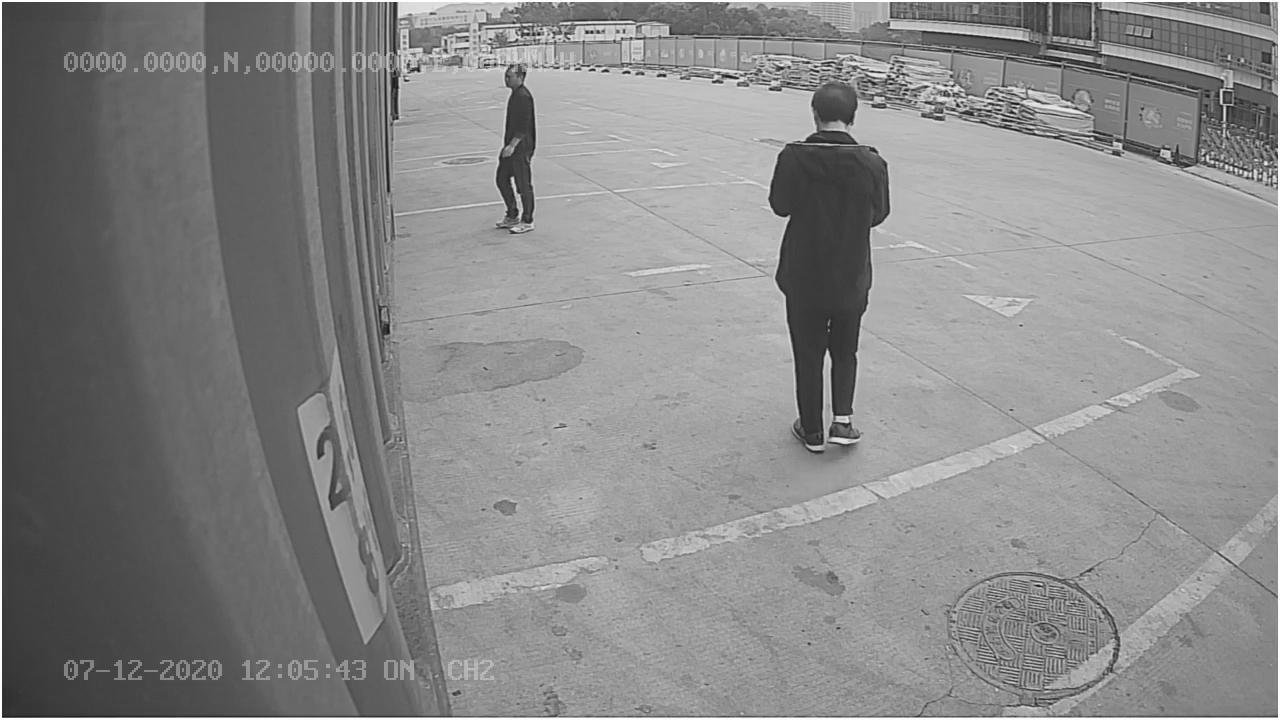person: (764, 77, 897, 459)
